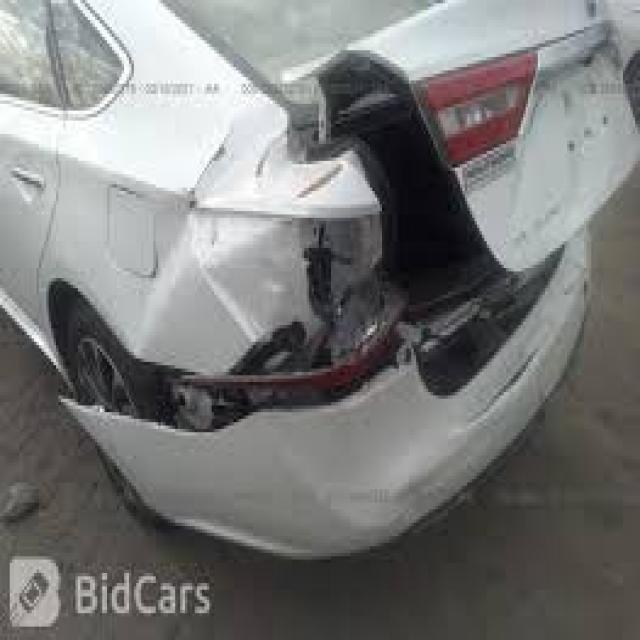damaged-trunk: (312, 12, 628, 304)
